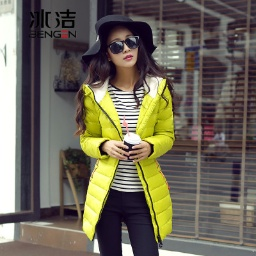face: (86, 26, 155, 86)
